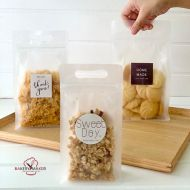Snack: (57, 62, 123, 187)
